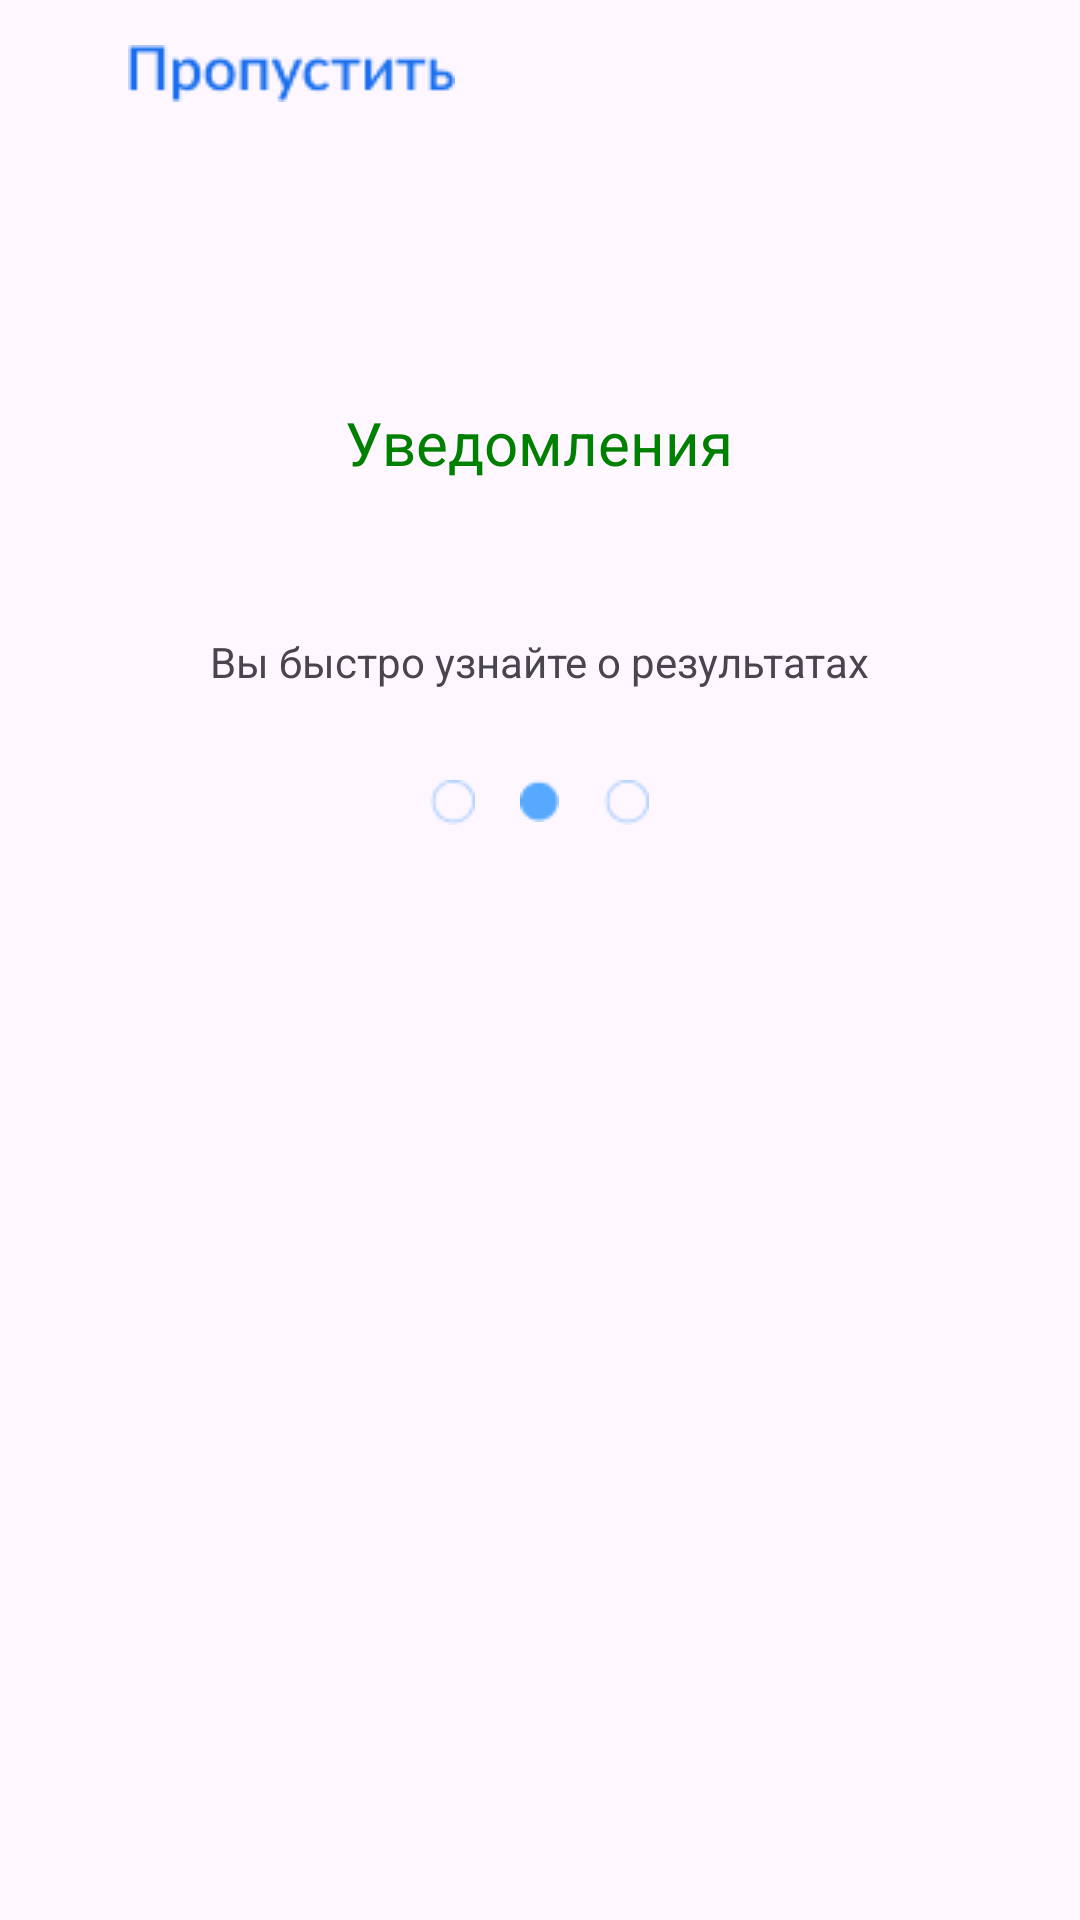

Named icons in this screenshot (1080px×1920px) and their bounding boxes, (x1, y1, x2, y2):
ellipsempty: (432, 780, 475, 823), (606, 780, 649, 823)
ellipsfull: (520, 782, 559, 822)
